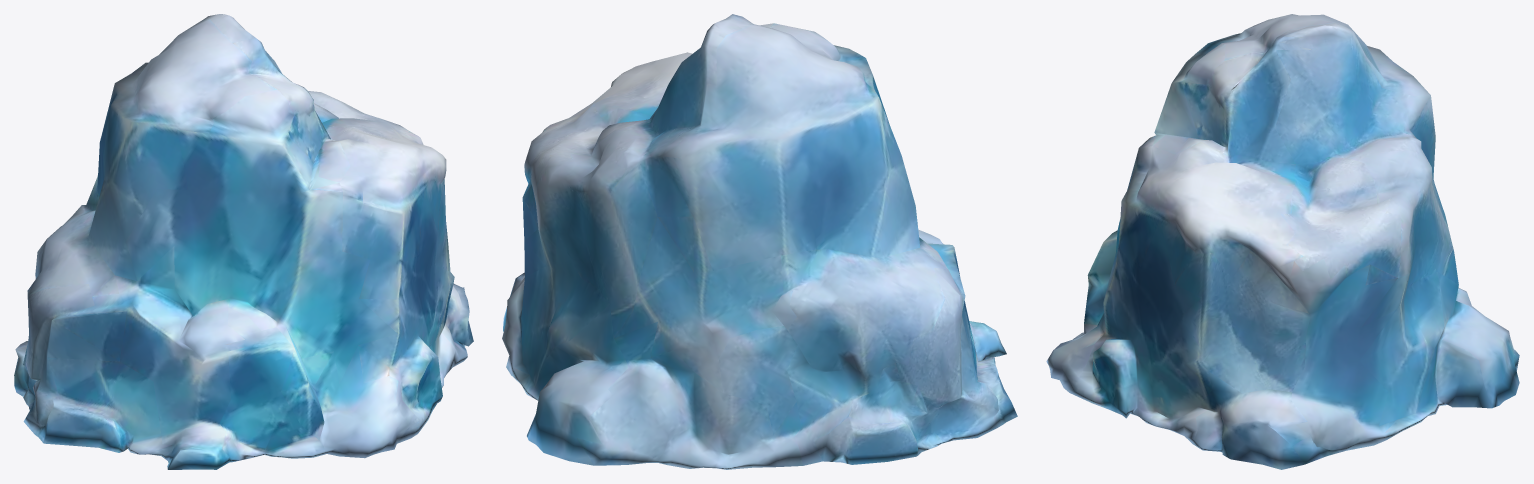
Rendered from node_ice_block.glb.
3 renders of one model, left to right at view 1: azimuth 30°, elevation 25°; view 2: azimuth 150°, elevation 25°; view 3: azimuth 270°, elevation 25°, orthographic. The views are drawn at different scales.
Size of the model in its own units: 0.2612 by 0.1899 by 0.2397.
1 material, 1 textured.
